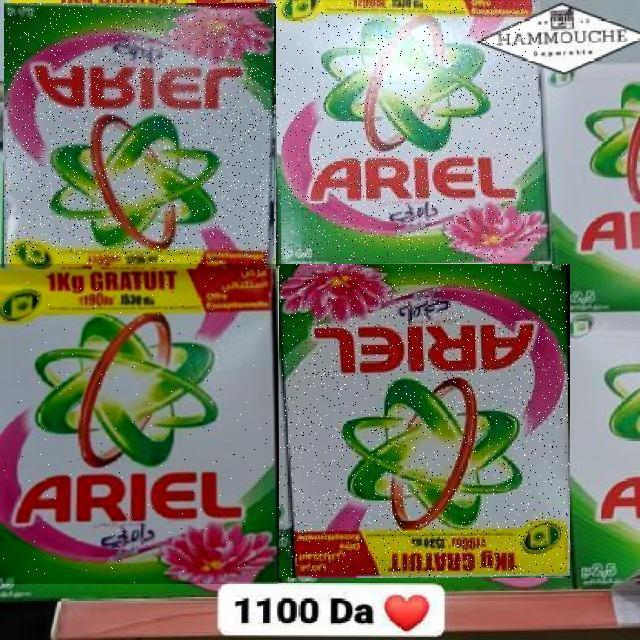Detergent: (279, 265, 570, 579), (0, 264, 278, 584), (4, 3, 276, 269), (272, 1, 540, 264)
